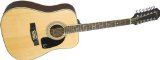guitar: (1, 1, 160, 60)
